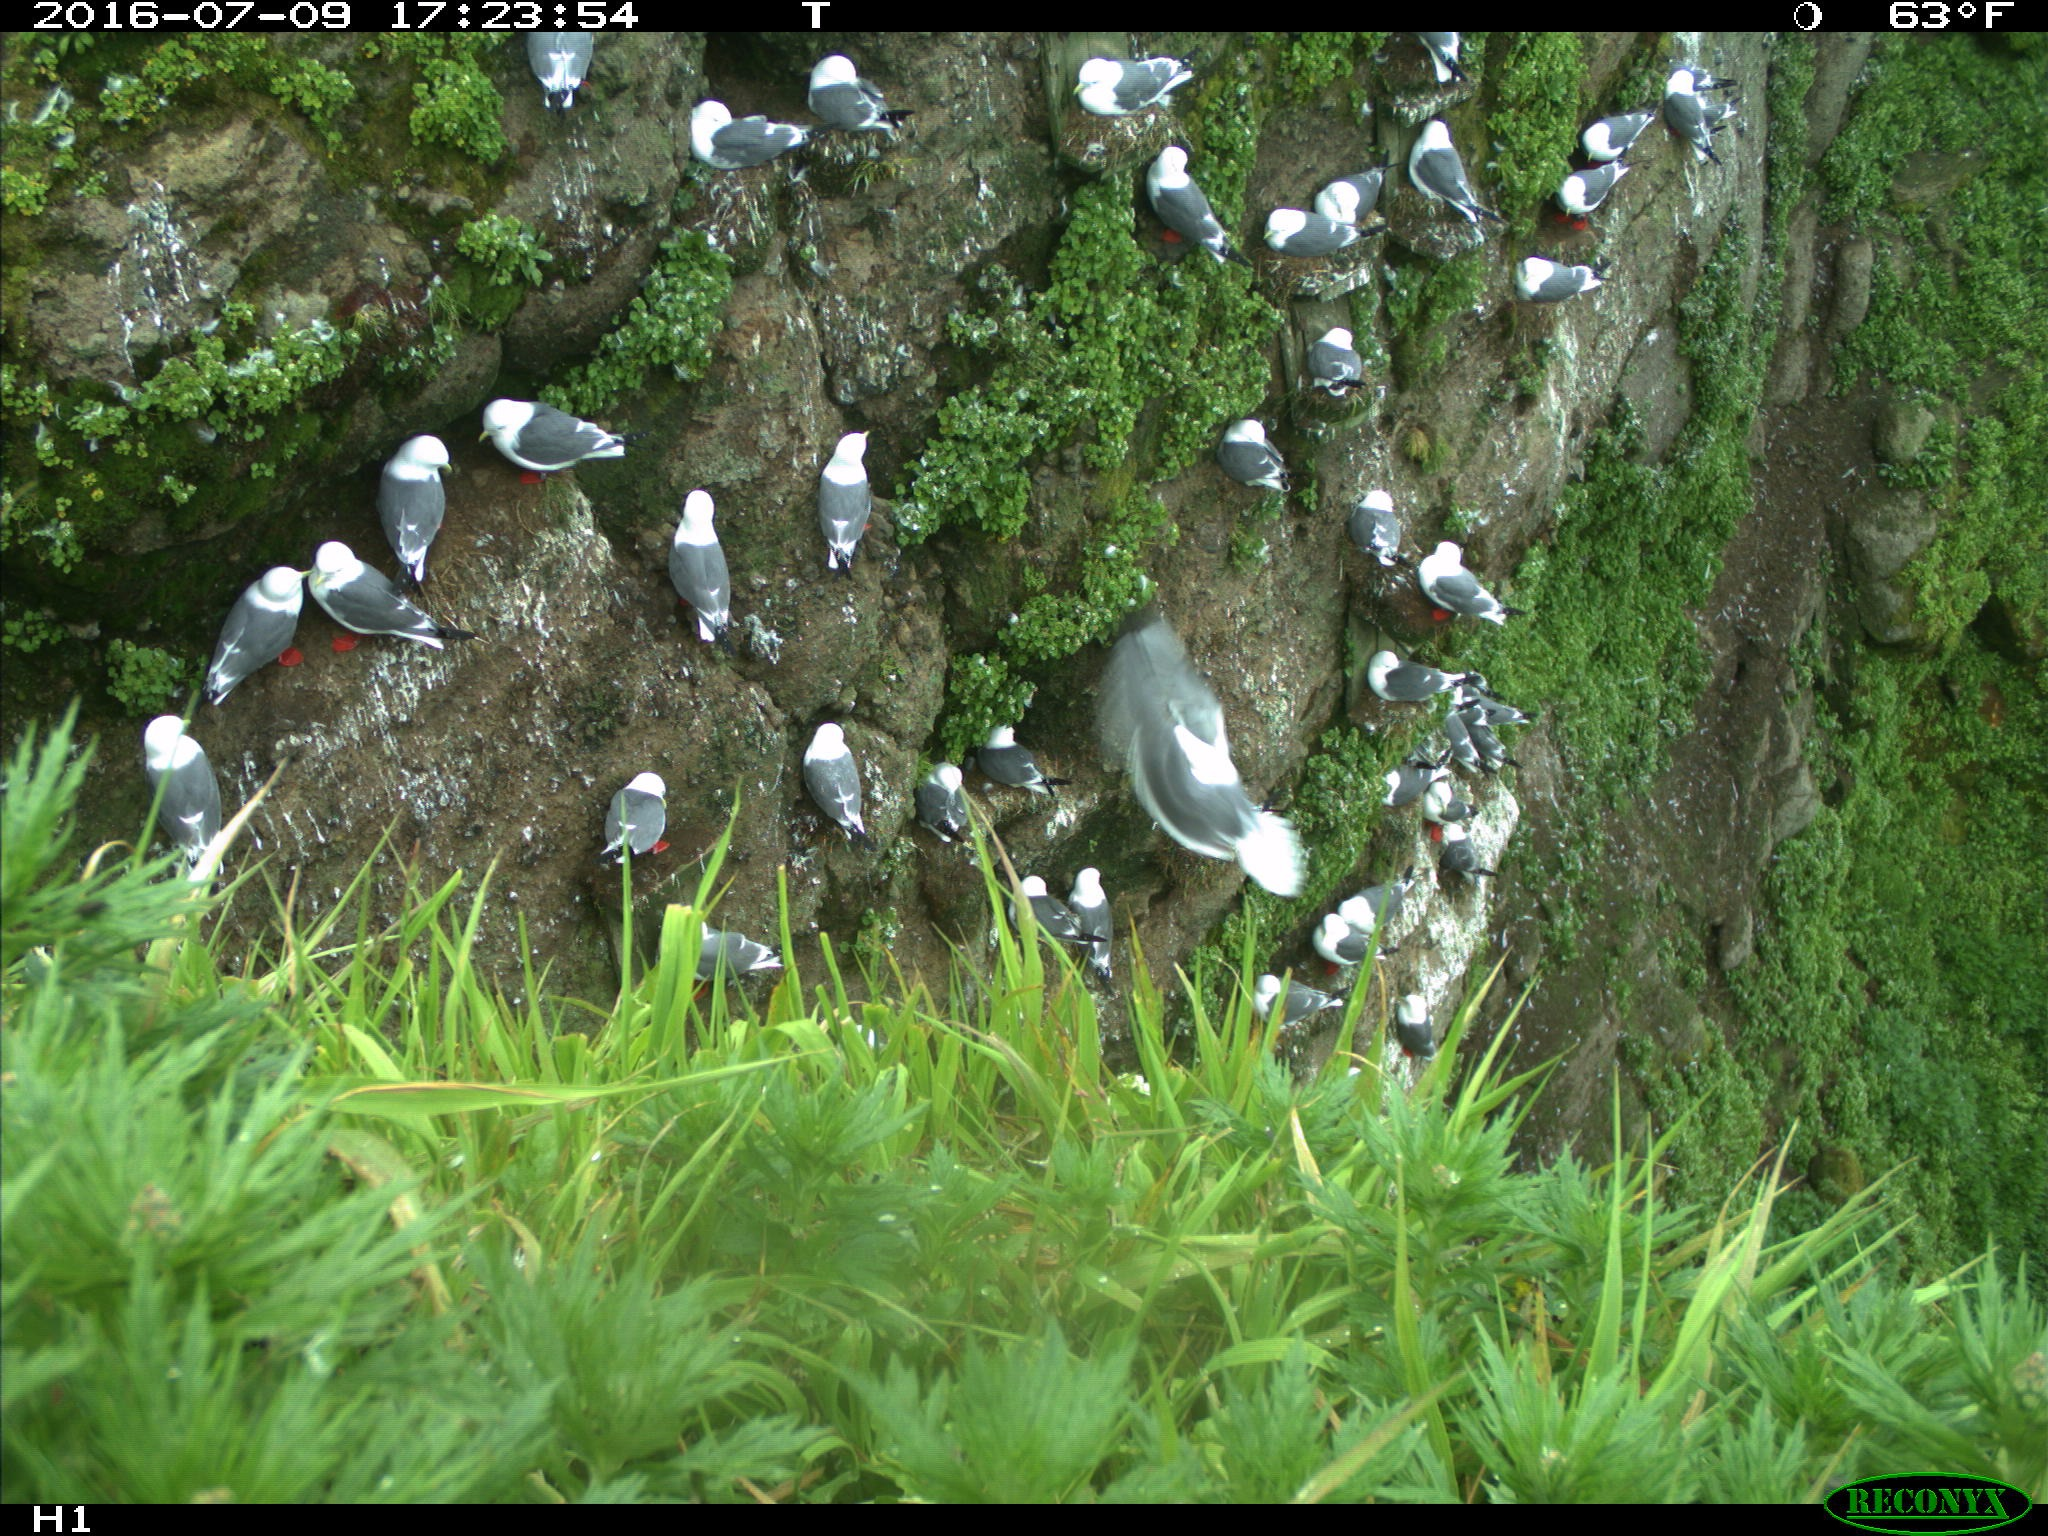Kittiwake: (111, 670, 284, 862), (284, 508, 448, 700), (780, 411, 945, 545), (202, 537, 319, 718), (363, 440, 505, 586), (655, 482, 801, 616), (474, 374, 632, 499), (1042, 48, 1208, 153), (1232, 937, 1355, 1079), (672, 74, 822, 189), (1113, 150, 1232, 286), (792, 44, 916, 160), (1209, 395, 1324, 520), (1306, 876, 1430, 987), (893, 737, 1006, 858), (1164, 774, 1295, 878), (1055, 876, 1129, 1054), (790, 708, 876, 862), (1342, 466, 1437, 600), (668, 902, 816, 987), (1392, 106, 1493, 227), (595, 753, 681, 887), (1643, 48, 1725, 187), (1492, 237, 1622, 324), (961, 694, 1045, 829), (1284, 313, 1392, 413), (1258, 179, 1363, 279), (1392, 778, 1509, 865), (1287, 900, 1376, 1010), (1395, 532, 1467, 662), (1367, 641, 1485, 713), (1313, 145, 1388, 252), (993, 862, 1069, 968), (1542, 171, 1630, 261), (510, 27, 595, 111), (1422, 534, 1505, 608), (1572, 100, 1634, 190)
